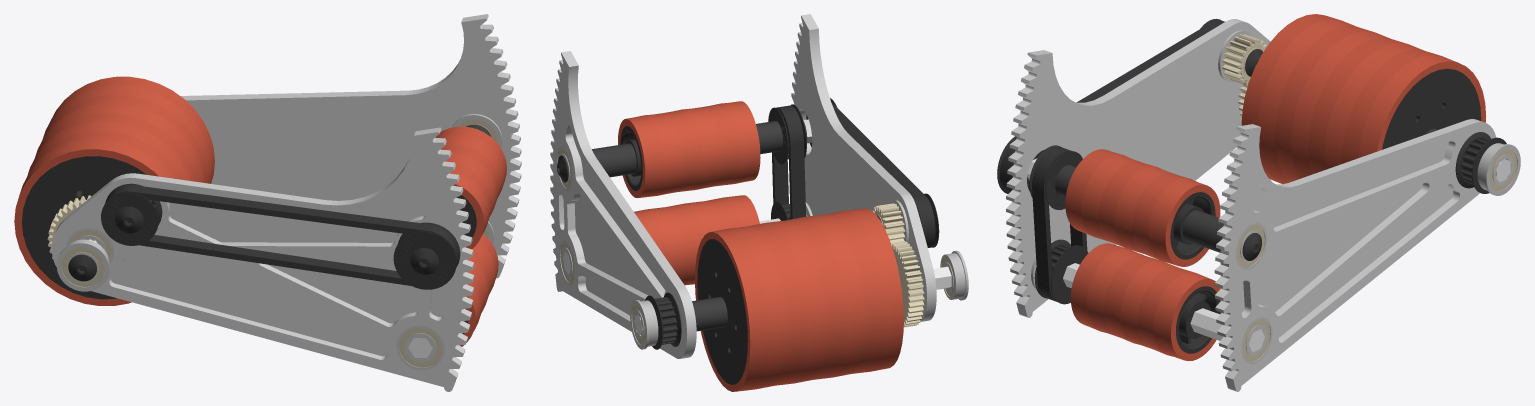
3 renders of one model, left to right at view 1: azimuth 30°, elevation 25°; view 2: azimuth 150°, elevation 25°; view 3: azimuth 270°, elevation 25°, orthographic. The views are drawn at different scales.
Parts seen in each view (by area): view 1: Right Shooter Moving Plate, Left Shooter Moving Plate, 4" Stealth Wheel (40A, 1/2" Hex Bore) (×4), 90t 5mm Belt, 2" Stealth Wheel (40A, 1/2" Hex Bore) (×6), 1/2" Hex Bore Bearing (1.125" OD, 0.313" WD, Shielded, Flang (×4), 21t Custom HTD 5mm Pulley (0.375" Wide, *0.5" Hex Bore), 19t Custom HTD 5mm Pulley (0.375" Wide, *0.5" Hex Bore), #10-32 x 0.5" L Shaft End Screw (V2, Steel, Black Oxide) (×3), 40t Aluminum Spur Gear (20 DP, 1/2" Hex Bore); view 2: 4" Stealth Wheel (40A, 1/2" Hex Bore) (×4), Left Shooter Moving Plate, 2" Stealth Wheel (40A, 1/2" Hex Bore) (×6), Right Shooter Moving Plate, 45t 5mm Belt, 1/2" Hex Bore Bearing (1.125" OD, 0.313" WD, Shielded, Flang (×3), 90t 5mm Belt, 40t Aluminum Spur Gear (20 DP, 1/2" Hex Bore), 19t Custom HTD 5mm Pulley (0.375" Wide, *0.5" Hex Bore), 1/2" Hex Bore Custom Spacer (0.75" OD,1.438" L), 1/2" Hex Bore Custom Spacer (0.75" OD,0.938" L), 20t Aluminum Spur Gear (20 DP, 1/2" Hex Bore) (+3 smaller); view 3: Left Shooter Moving Plate, 4" Stealth Wheel (40A, 1/2" Hex Bore) (×4), Right Shooter Moving Plate, 2" Stealth Wheel (40A, 1/2" Hex Bore) (×6), 1/2" Hex Bore Bearing (1.125" OD, 0.313" WD, Shielded, Flang (×3), 45t 5mm Belt, 20t Custom HTD 5mm Pulley (0.375" Wide, *0.5" Hex Bore) (×2), 90t 5mm Belt, 19t Custom HTD 5mm Pulley (0.375" Wide, *0.5" Hex Bore), 20t Aluminum Spur Gear (20 DP, 1/2" Hex Bore), 1/2" Hex (6.5" L, 7075 Aluminum), 1/2" Hex Bore Custom Spacer (0.75" OD,1.438" L).
Part boxes in pixels (x1,y1,x2,y2): Right Shooter Moving Plate: [51, 127, 474, 391]; Left Shooter Moving Plate: [180, 14, 521, 278]; 4" Stealth Wheel (40A, 1/2" Hex Bore) (×4): [14, 76, 214, 305]; 90t 5mm Belt: [105, 185, 459, 285]; 2" Stealth Wheel (40A, 1/2" Hex Bore) (×6): [435, 126, 506, 346]; 1/2" Hex Bore Bearing (1.125" OD, 0.313" WD, Shielded, Flang (×4): [56, 114, 502, 370]; 21t Custom HTD 5mm Pulley (0.375" Wide, *0.5" Hex Bore): [393, 222, 460, 289]; 19t Custom HTD 5mm Pulley (0.375" Wide, *0.5" Hex Bore): [101, 183, 162, 245]; #10-32 x 0.5" L Shaft End Screw (V2, Steel, Black Oxide) (×3): [68, 206, 439, 281]; 40t Aluminum Spur Gear (20 DP, 1/2" Hex Bore): [47, 195, 91, 258]; 4" Stealth Wheel (40A, 1/2" Hex Bore) (×4): [695, 208, 903, 391]; Left Shooter Moving Plate: [550, 51, 696, 358]; 2" Stealth Wheel (40A, 1/2" Hex Bore) (×6): [618, 101, 760, 285]; Right Shooter Moving Plate: [791, 14, 936, 321]; 45t 5mm Belt: [772, 105, 806, 219]; 1/2" Hex Bore Bearing (1.125" OD, 0.313" WD, Shielded, Flang (×3): [559, 240, 968, 349]; 90t 5mm Belt: [831, 102, 935, 247]; 40t Aluminum Spur Gear (20 DP, 1/2" Hex Bore): [891, 241, 924, 327]; 19t Custom HTD 5mm Pulley (0.375" Wide, *0.5" Hex Bore): [645, 292, 681, 349]; 1/2" Hex Bore Custom Spacer (0.75" OD,1.438" L): [592, 143, 636, 177]; 1/2" Hex Bore Custom Spacer (0.75" OD,0.938" L): [692, 297, 727, 331]; 20t Aluminum Spur Gear (20 DP, 1/2" Hex Bore): [872, 203, 905, 242]; Left Shooter Moving Plate: [1214, 119, 1496, 391]; 4" Stealth Wheel (40A, 1/2" Hex Bore) (×4): [1241, 14, 1486, 184]; Right Shooter Moving Plate: [1006, 19, 1270, 317]; 2" Stealth Wheel (40A, 1/2" Hex Bore) (×6): [1065, 149, 1221, 361]; 1/2" Hex Bore Bearing (1.125" OD, 0.313" WD, Shielded, Flang (×3): [1235, 143, 1520, 364]; 45t 5mm Belt: [1032, 146, 1087, 301]; 20t Custom HTD 5mm Pulley (0.375" Wide, *0.5" Hex Bore) (×2): [1029, 145, 1088, 304]; 90t 5mm Belt: [999, 20, 1224, 193]; 19t Custom HTD 5mm Pulley (0.375" Wide, *0.5" Hex Bore): [1455, 132, 1506, 193]; 20t Aluminum Spur Gear (20 DP, 1/2" Hex Bore): [1222, 34, 1267, 85]; 1/2" Hex (6.5" L, 7075 Aluminum): [1063, 263, 1264, 352]; 1/2" Hex Bore Custom Spacer (0.75" OD,1.438" L): [1182, 210, 1223, 252].
Size of the model in its own units: 0.3065 by 0.1666 by 0.3052.
